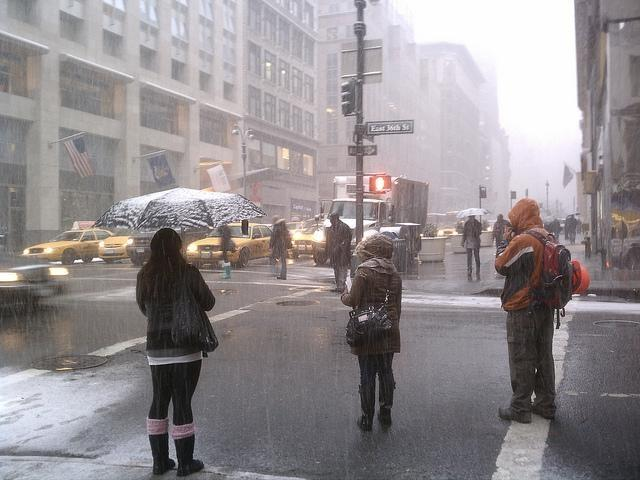car: (184, 221, 274, 269), (0, 253, 70, 309), (21, 227, 115, 266), (99, 226, 135, 264), (288, 223, 322, 258), (126, 231, 158, 266), (610, 237, 640, 270), (436, 222, 459, 236), (284, 222, 304, 237), (482, 220, 498, 232), (556, 218, 566, 235)
truck: (311, 176, 428, 267)
